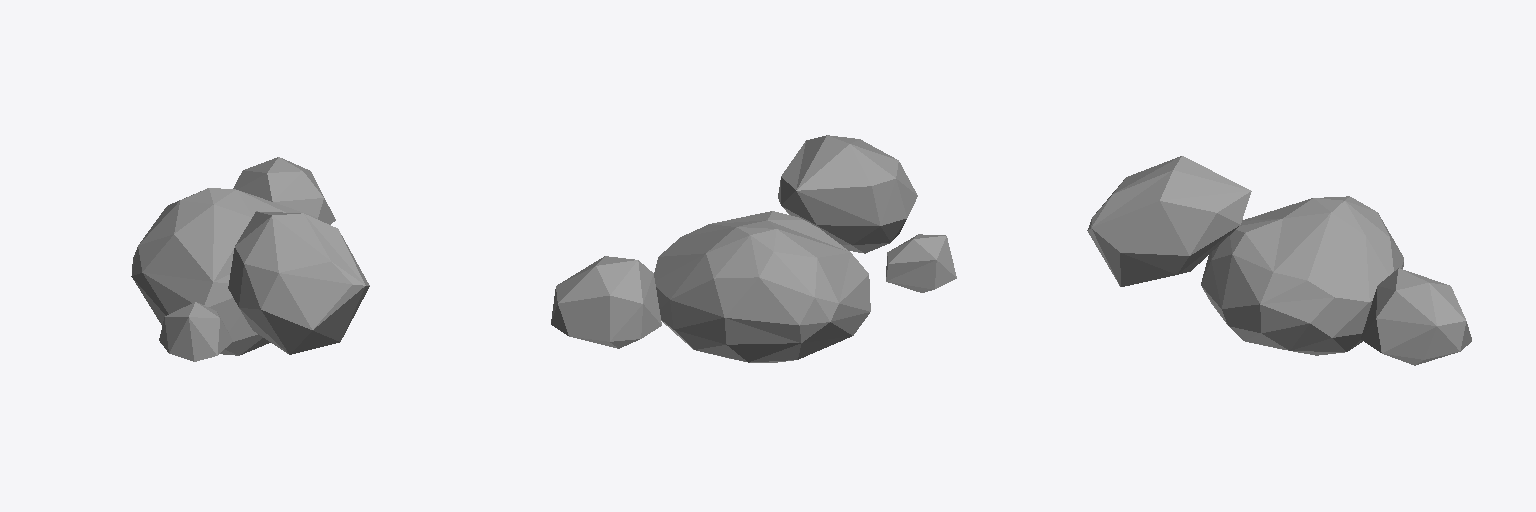
The model's file is Stone2.obj.
3 renders of one model, left to right at view 1: azimuth 30°, elevation 25°; view 2: azimuth 150°, elevation 25°; view 3: azimuth 270°, elevation 25°, orthographic.
Visible parts, largest first — view 1: Sphere_001, Sphere, Icosphere, Icosphere_001; view 2: Sphere, Sphere_001, Icosphere, Icosphere_001; view 3: Sphere, Sphere_001, Icosphere.
Boxes of the visible parts, <box> form: Sphere_001: <box>228,211,369,354</box>; Sphere: <box>131,188,316,355</box>; Icosphere: <box>233,157,335,224</box>; Icosphere_001: <box>159,302,232,361</box>; Sphere: <box>654,211,870,362</box>; Sphere_001: <box>778,135,917,253</box>; Icosphere: <box>551,256,661,348</box>; Icosphere_001: <box>886,234,956,292</box>; Sphere: <box>1201,196,1403,355</box>; Sphere_001: <box>1087,156,1251,286</box>; Icosphere: <box>1361,268,1471,365</box>.
Bounding box in the file's own units: 11.41 × 6.66 × 13.79.